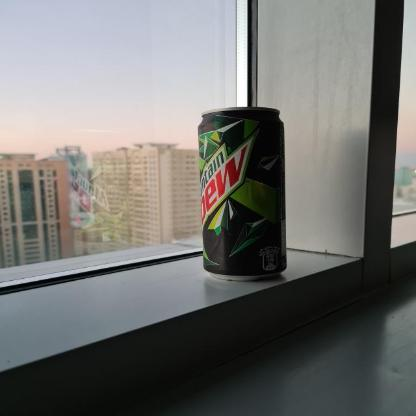Can: (188, 107, 296, 289)
